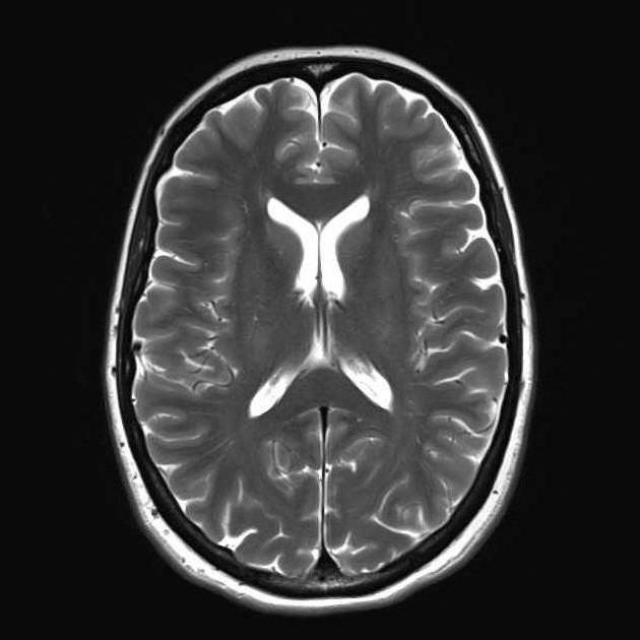notumor: (107, 50, 532, 613)
